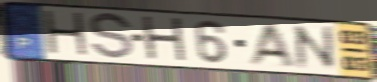6: (193, 20, 229, 66)
A: (245, 23, 298, 67)
H: (41, 8, 92, 60), (139, 14, 190, 65)
N: (290, 23, 340, 71)
S: (88, 11, 136, 63)
